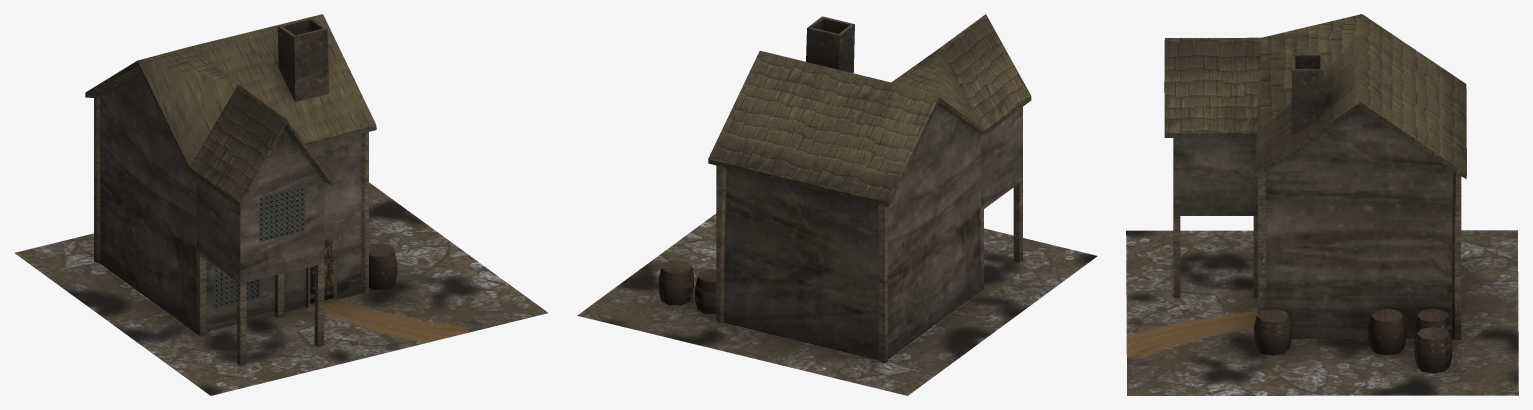
The model's file is Small House.FBX.
3 views of the same model, side by side, from view 1: azimuth 30°, elevation 25°; view 2: azimuth 150°, elevation 25°; view 3: azimuth 270°, elevation 25° (orthographic). The views are drawn at different scales.
Parts seen in each view (by area): view 1: Small-House; view 2: Small-House; view 3: Small-House.
Boxes of the visible parts, bbox=[...] form: Small-House: bbox=[15, 14, 547, 395]; Small-House: bbox=[577, 14, 1097, 395]; Small-House: bbox=[1126, 14, 1518, 395].
Bounding box in the file's own units: 5.91 × 4.29 × 5.91.
